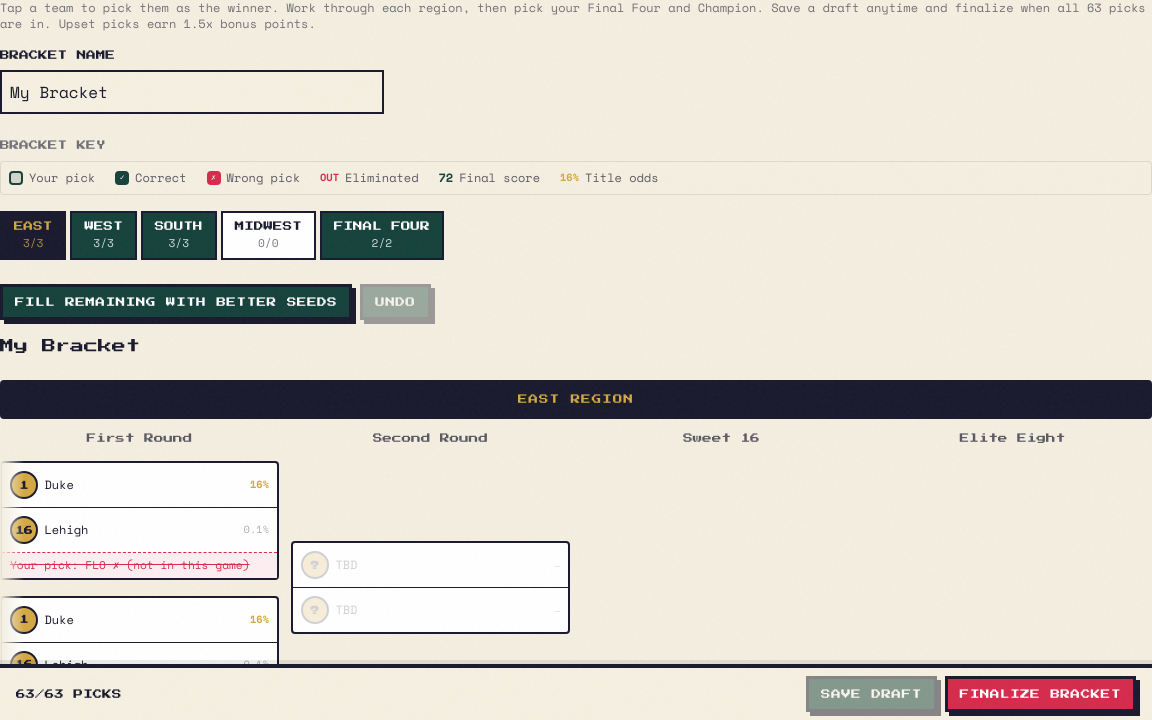
BracketBuilder › finalize dialog is a modal: role, Escape closes, Cancel is focused
The width and height of the screenshot is (1152, 720).
Click the button "Finalize Bracket" at (1040, 694), box [945,676,1136,712]
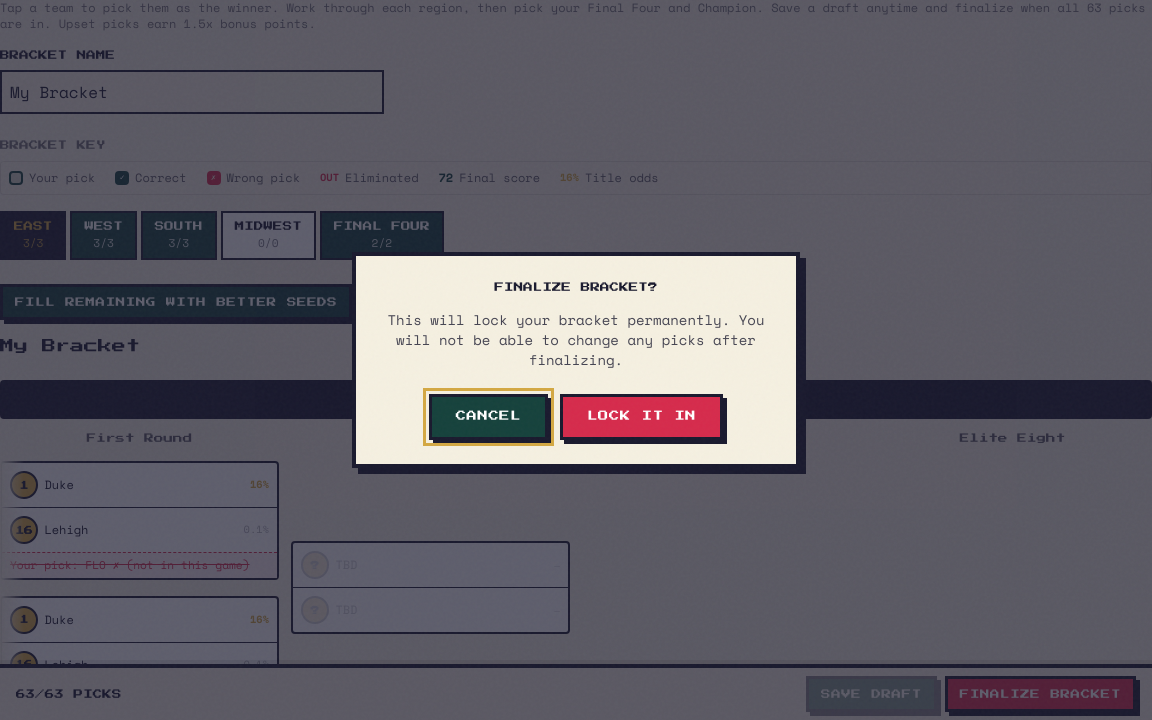
Press Escape in the dialog, box [352,252,800,468]
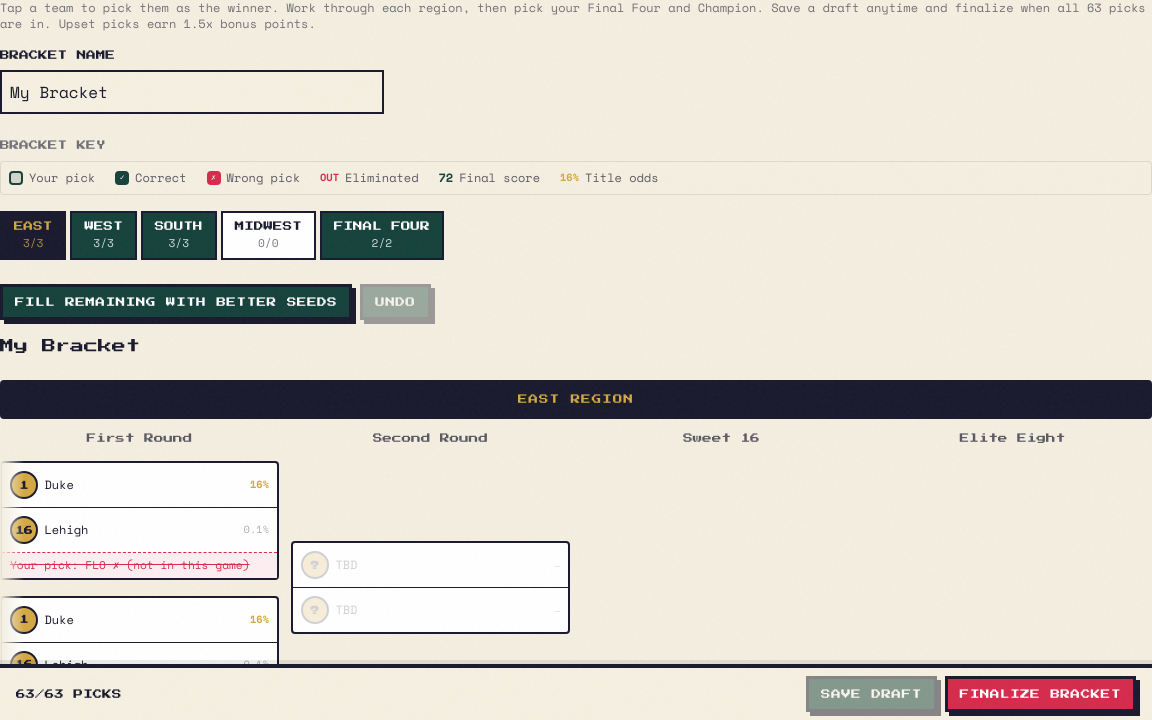
Now the dialog is gone
